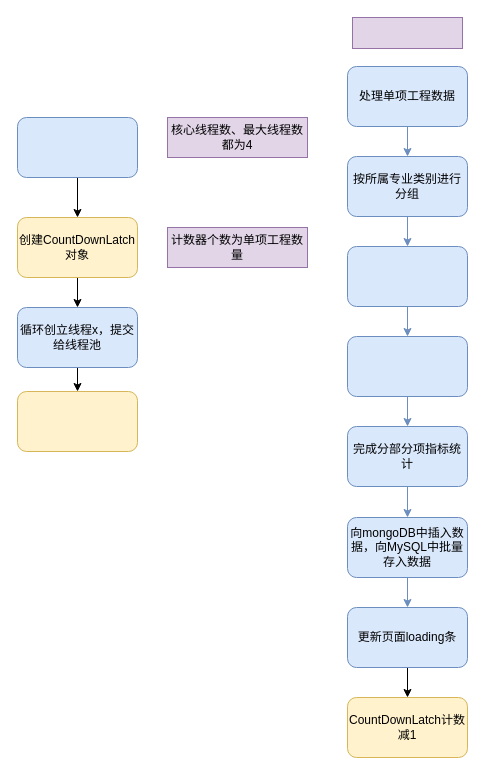
Image size: 485x775. Some labels were removed from this diagram. Each missing label, with the centre of its shape:
"归属清单匹配" goes at (x=407, y=366).
"构建线程池loadSubIndexQuantity" goes at (x=77, y=147).
"查询对应专业类别下的分部分项指标模版" goes at (x=407, y=276).
"线程x" goes at (x=407, y=32).
"阻塞当前线程，等待计数器归零" goes at (x=77, y=421).
